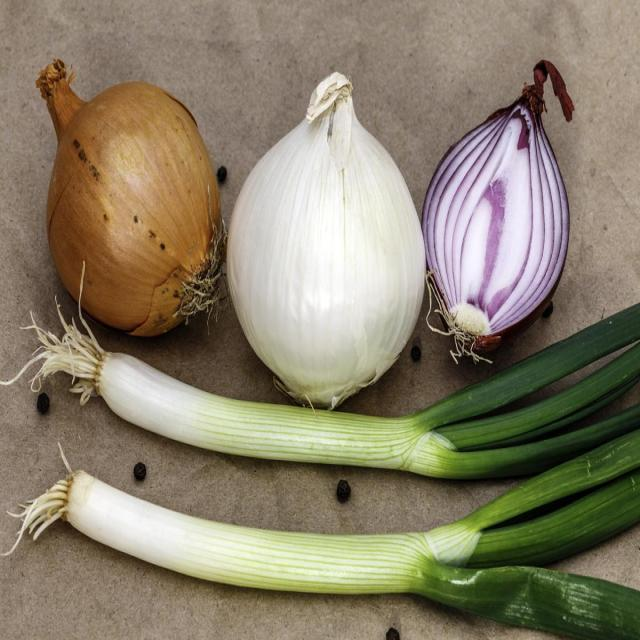Onion: (0, 260, 640, 483), (2, 431, 640, 640), (227, 71, 428, 412), (37, 59, 228, 341), (422, 60, 574, 368)
